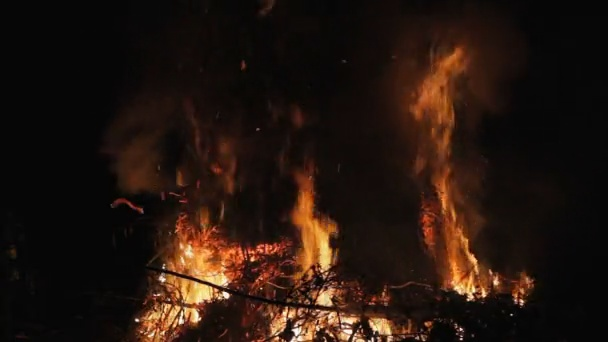fire: (410, 47, 501, 298), (140, 241, 230, 342), (272, 291, 394, 342), (295, 174, 334, 271), (510, 273, 534, 306)
